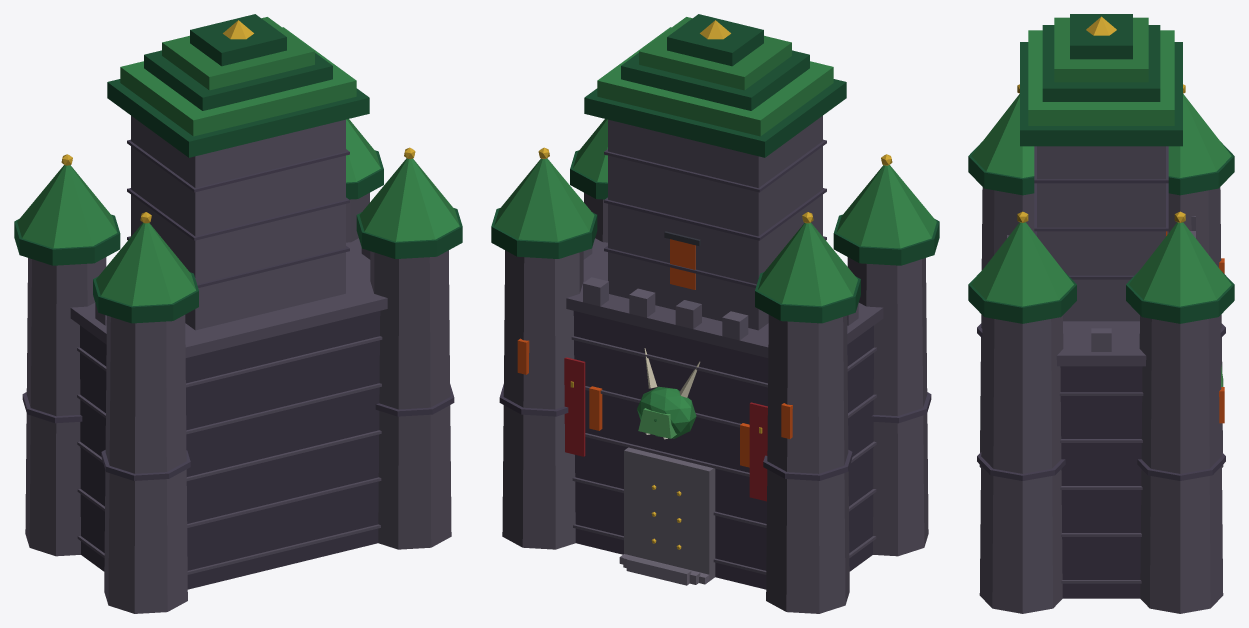
File: Decor_DragonLair_Keep.fbx
The picture shows the model from 3 angles, left to right: view 1: azimuth 30°, elevation 25°; view 2: azimuth 150°, elevation 25°; view 3: azimuth 270°, elevation 25°; orthographic projection.
Visible parts, largest first — view 1: Keep_Body; view 2: Keep_Body; view 3: Keep_Body.
Boxes of the visible parts, box(x1,y1,x2,y2) form: Keep_Body: box(14, 14, 462, 613); Keep_Body: box(491, 14, 939, 613); Keep_Body: box(968, 14, 1234, 613).
Size of the model in its own units: 28 by 38.4 by 18.
